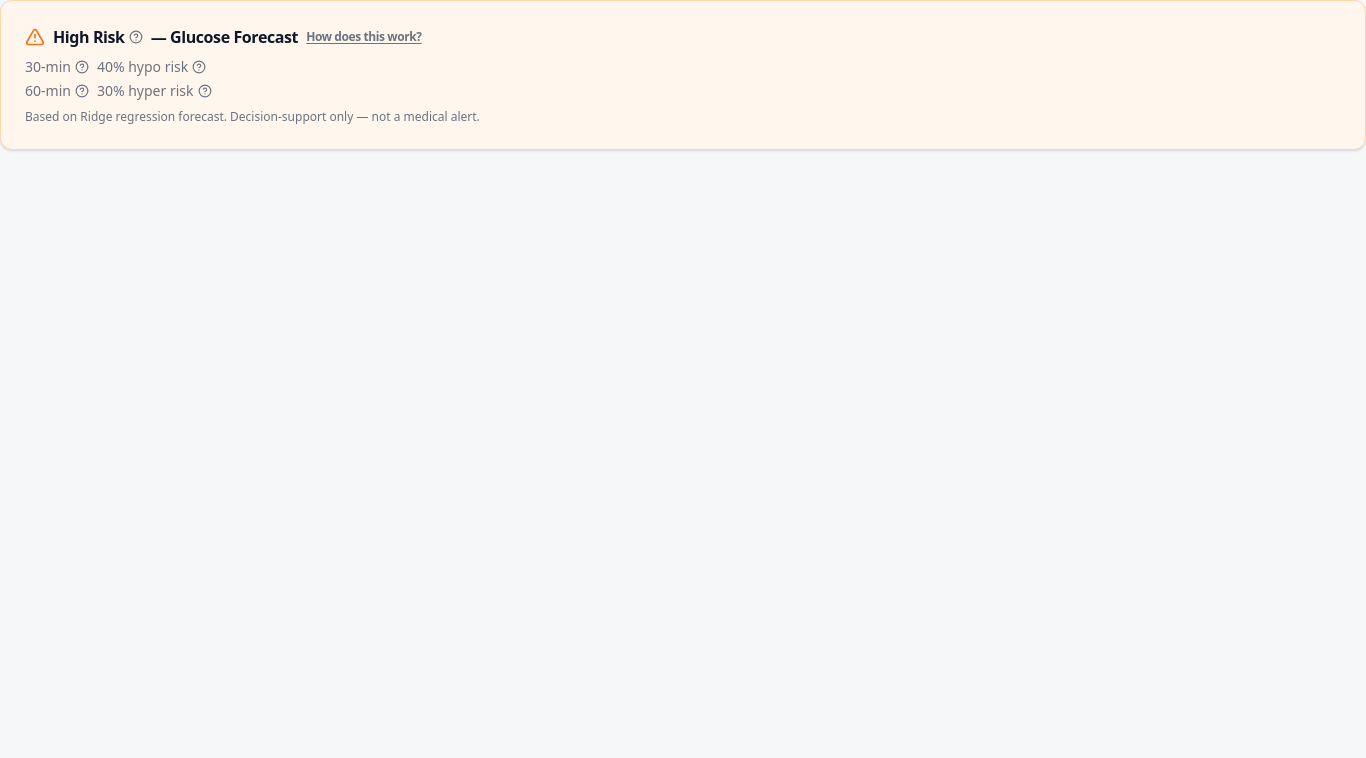
Test: RiskAlertCard — help elements (#85) › opens forecast sheet with content
Click the button "How does this work?".
click(364, 37)  # box [306,29,422,45]
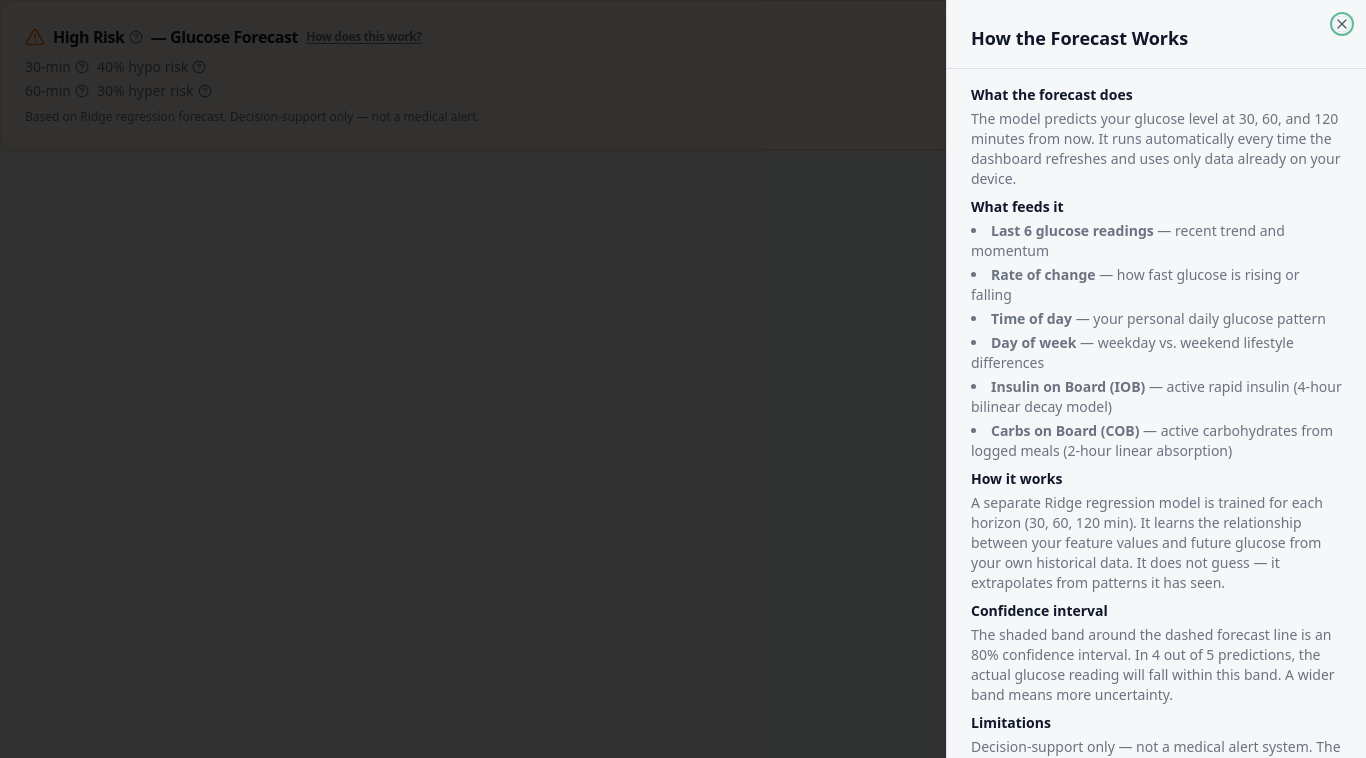
expect the heading "How the Forecast Works" is shown: met, box [971,26,1188,50]
expect the heading "What the forecast does" is shown: met, box [971,85,1133,104]
